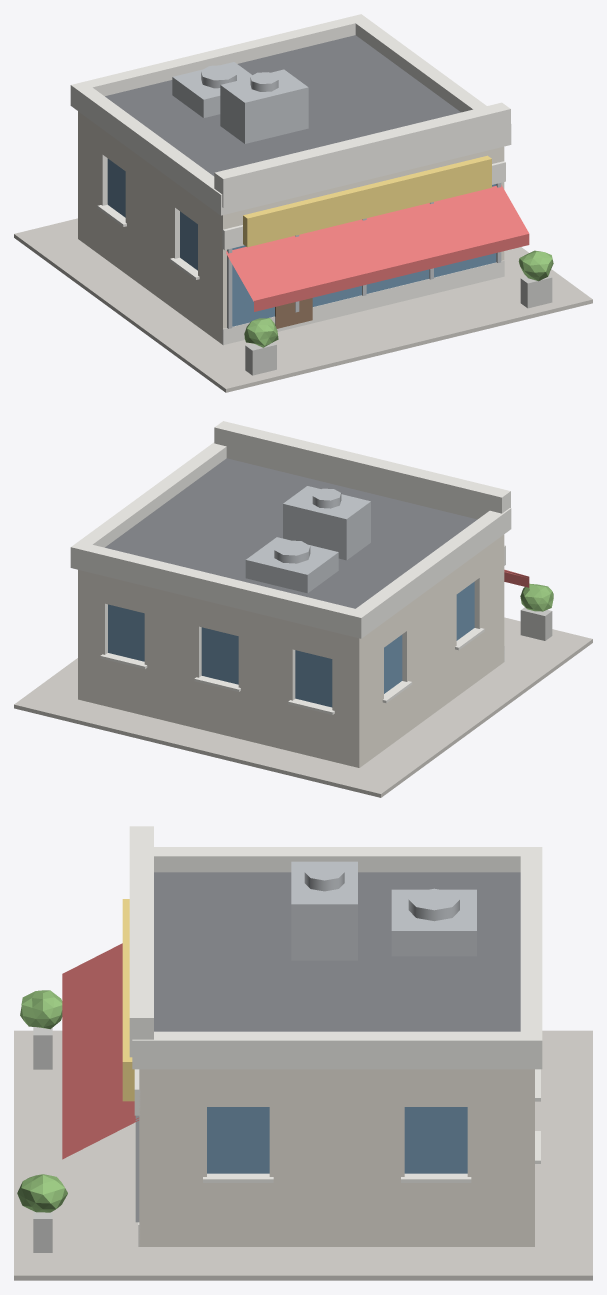
3 views of the same model, one above another, from view 1: azimuth 30°, elevation 25°; view 2: azimuth 150°, elevation 25°; view 3: azimuth 270°, elevation 25° (orthographic). The views are drawn at different scales.
Parts seen in each view (by area): view 1: c_1_1_a; view 2: c_1_1_a; view 3: c_1_1_a.
Part boxes in pixels (x1,y1,x2,y2): c_1_1_a: (14,14,592,392); c_1_1_a: (14,421,592,797); c_1_1_a: (14,826,592,1280).
Bounding box in the file's own units: 12 × 6.07 × 12.
